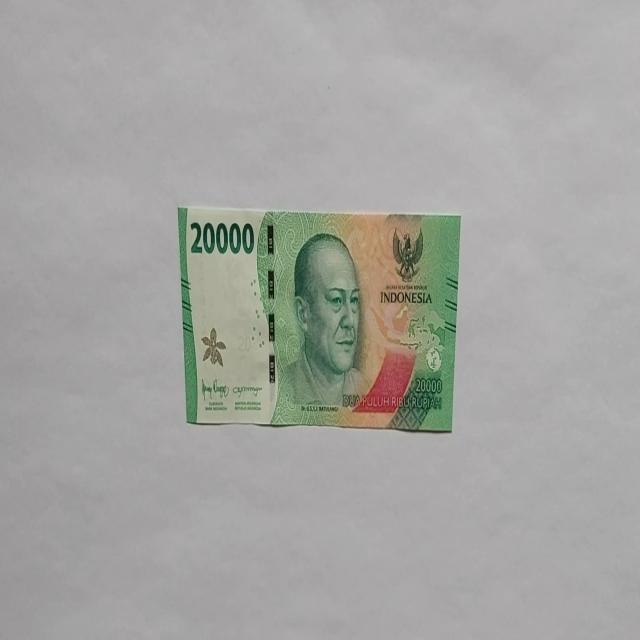dua puluh ribu rupiah: (177, 204, 461, 432)
